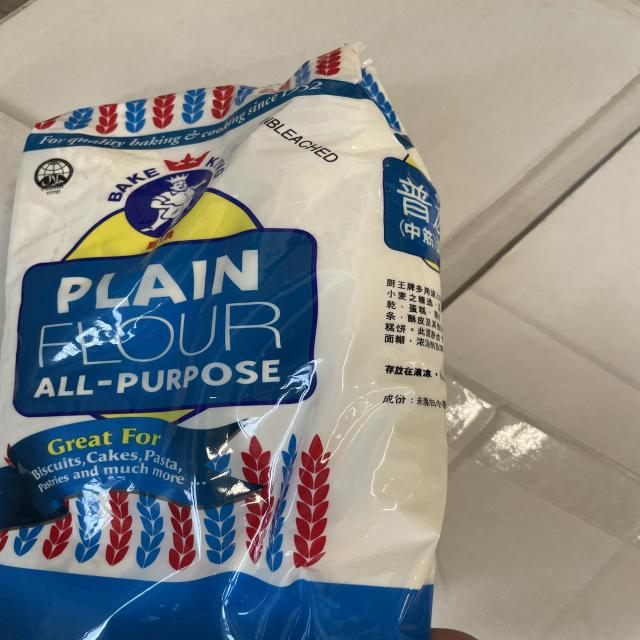object_name: (20, 82, 429, 640)
